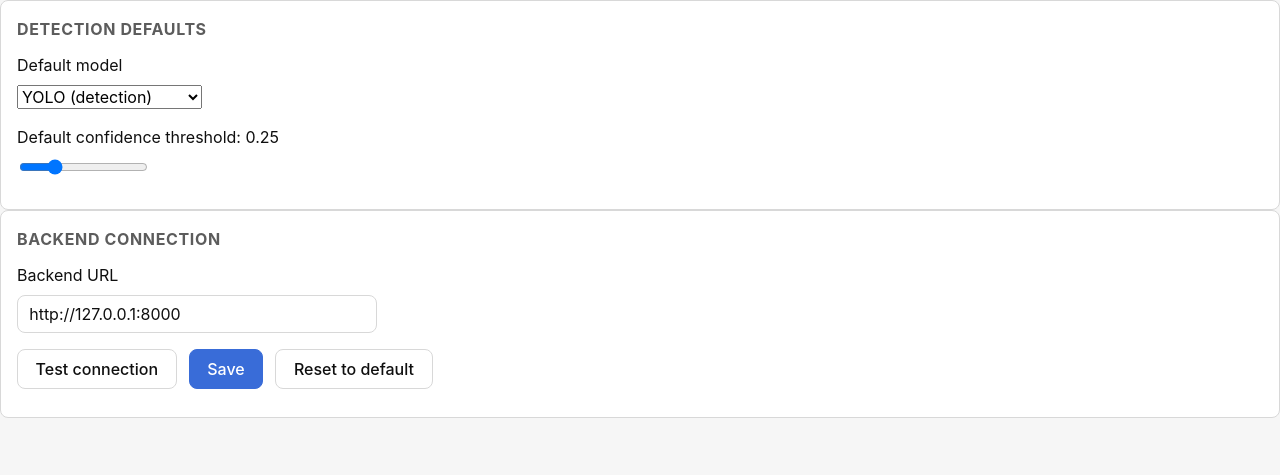
Test case: SettingsPage › Test connection reports success when the backend responds
Click the button "Test connection". click: click(97, 369)
box: [17, 349, 177, 389]
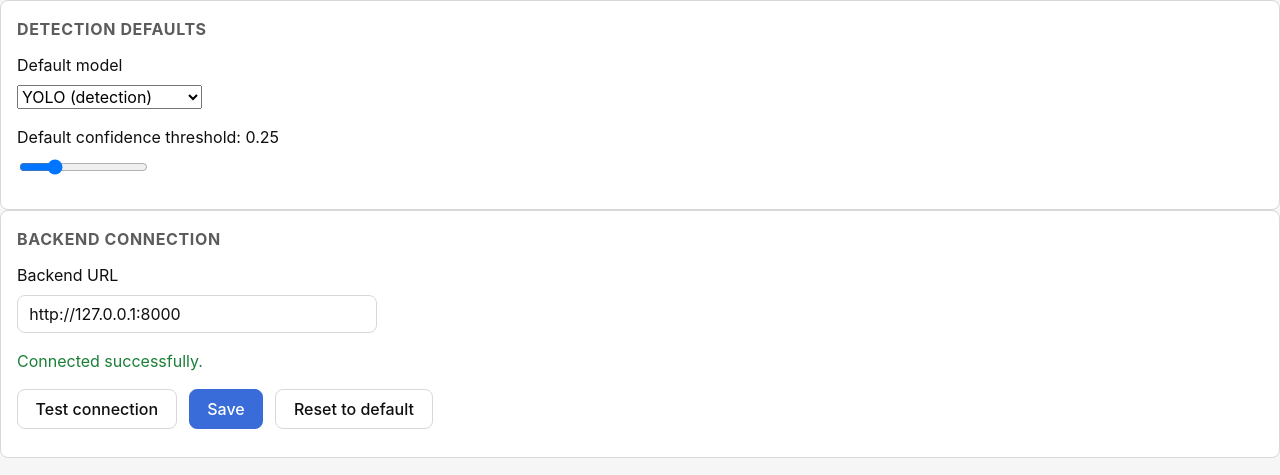
expect the text "Connected successfully." is shown: met, box [17, 351, 203, 371]
